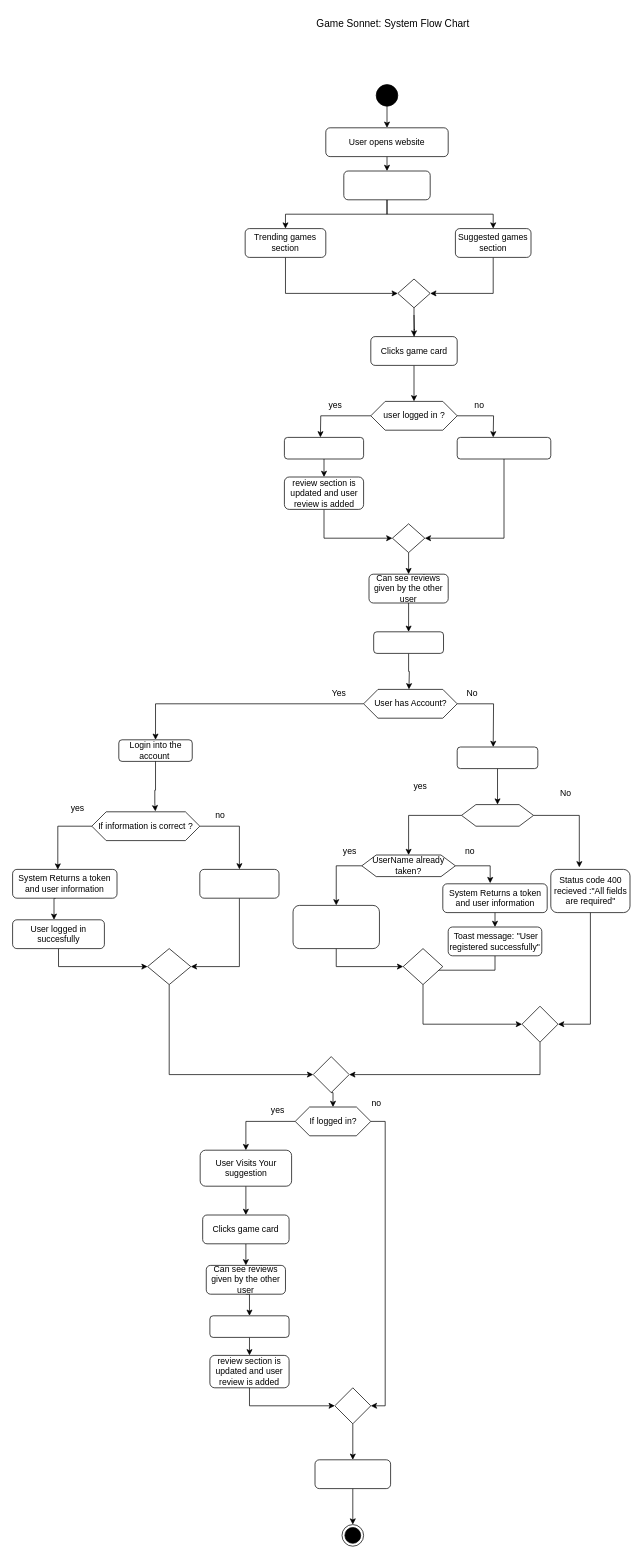
This 643x1559 diagram has some shape labels left out. Here are the shapes that lost their labels. From the top down, the centre of each, then its label:
pixel 386 185: Opens Home page
pixel 324 448: Submits a review
pixel 503 448: Shows "Please login to submit a review"
pixel 408 642: user visits About page
pixel 497 757: Signup and creates a new account
pixel 497 815: All fields filled?
pixel 239 883: Status code 401 recieved :"Invalid Credentials"
pixel 335 927: Status code 400 recieved :"Username already taken or invalid data"
pixel 249 1326: User Submits a review
pixel 352 1474: User signs out
